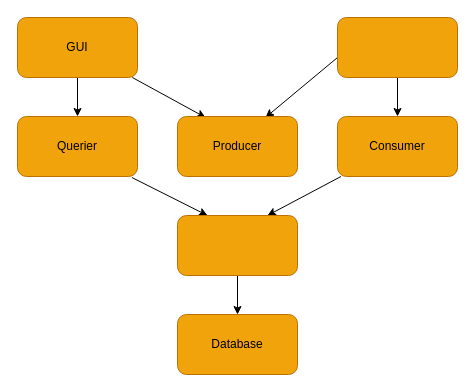
The diagram is 475 pixels wide and 392 high, and some of its shapes have lost their labels. The centre of each missing label's shape, as x and y in pixels:
"Kafka" belongs at point (397, 47).
"ORM" belongs at point (237, 245).
